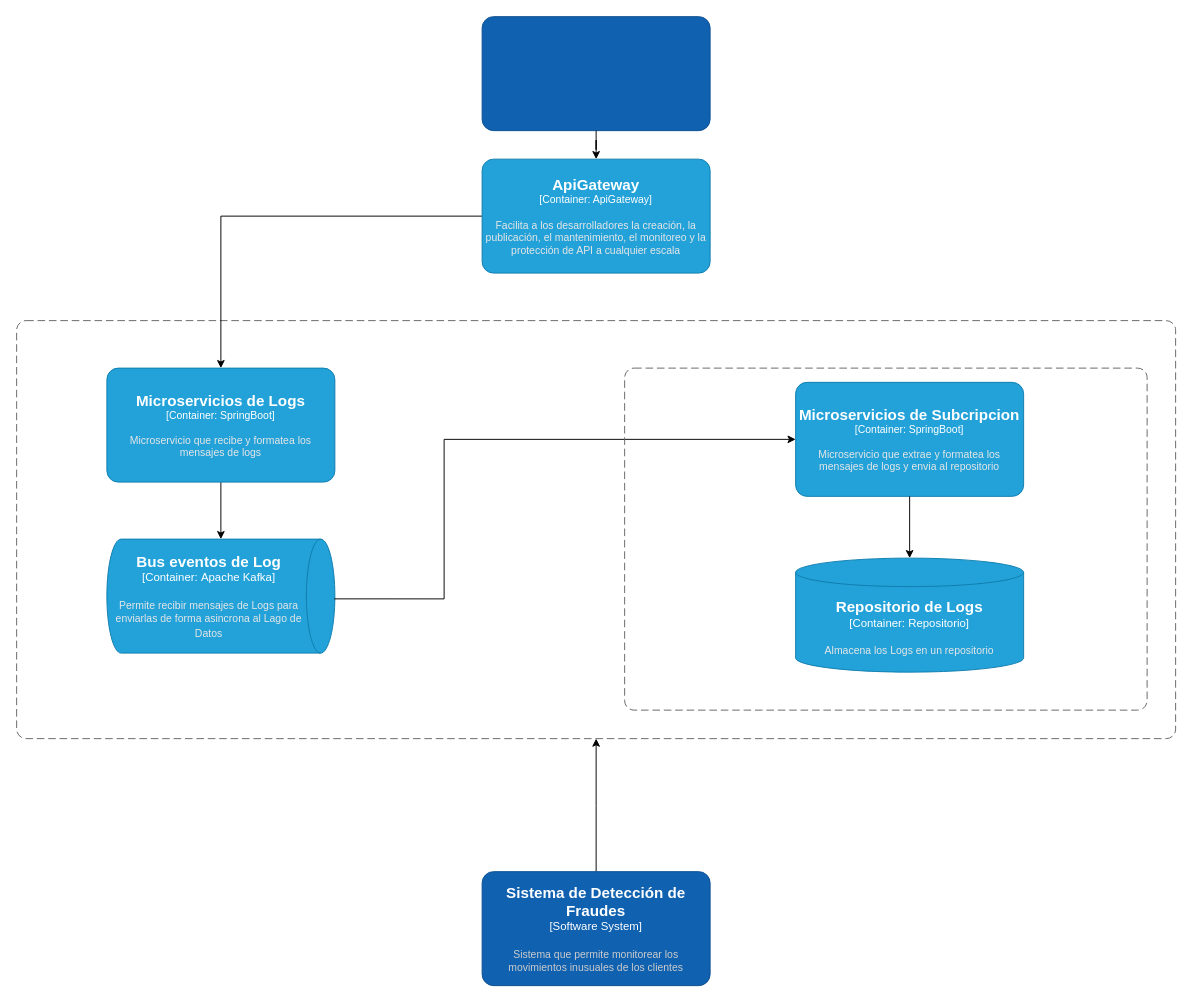
Image size: 1192x1002. Some labels were removed from this diagram. The box of each missing label's shape, as (x1, y1, x2, y2) in pixels:
Banca Digital [Software System] Sistema de Banca por Internet: (481, 16, 710, 131)
Lago de Datos [Container]: (624, 367, 1147, 710)
Sistema de Logs [Software System]: (16, 320, 1176, 739)
